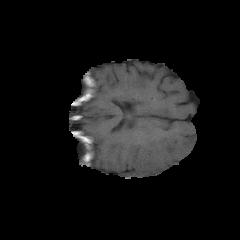glioma: (132, 132, 193, 171)
